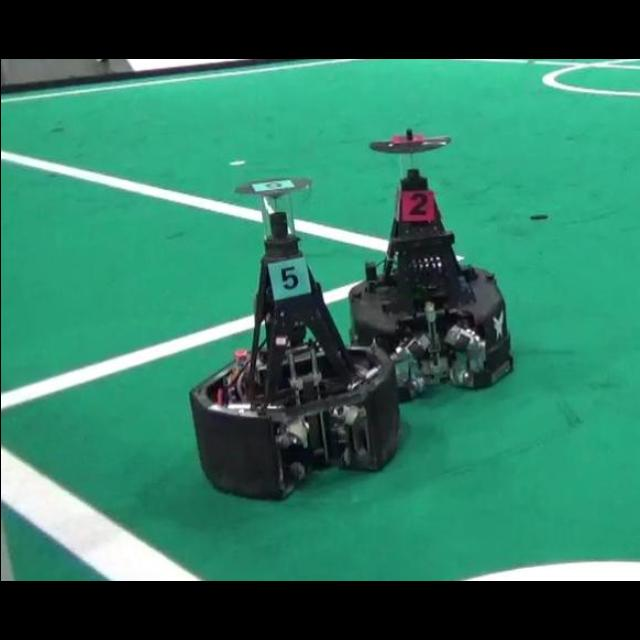robot: (190, 178, 399, 498), (349, 130, 512, 398)
